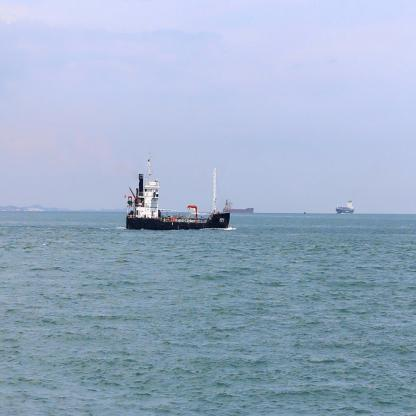Container Ship: (124, 151, 232, 231), (220, 195, 254, 214), (334, 196, 354, 214)
